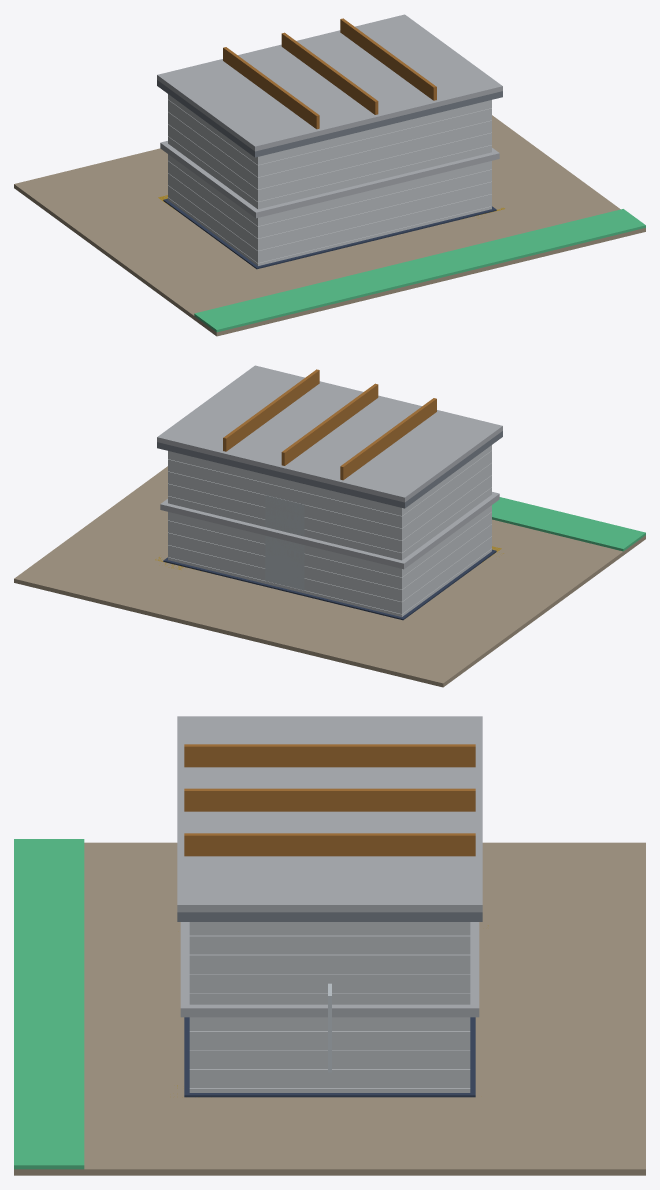
File: stage_11_finishing.glb
3 views of the same model, one above another, from view 1: azimuth 30°, elevation 25°; view 2: azimuth 150°, elevation 25°; view 3: azimuth 270°, elevation 25° (orthographic). The views are drawn at different scales.
Parts seen in each view (by area): view 1: world; view 2: world; view 3: world.
Boxes of the visible parts, x1,y1,x2,y2 form: world: (14,14,645,336); world: (14,365,645,687); world: (14,716,645,1175).
Bounding box in the file's own units: 11 × 4.2 × 9.
